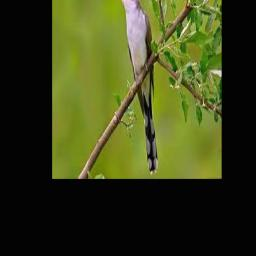Cuckoo: (114, 0, 159, 174)
